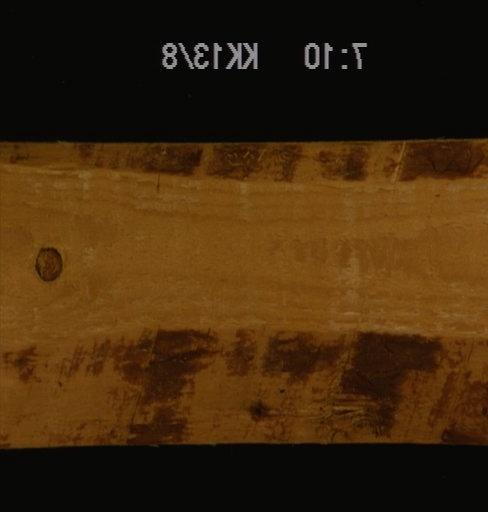dry_knot: (33, 244, 65, 281)
wave: (0, 327, 486, 442), (1, 141, 486, 183)
